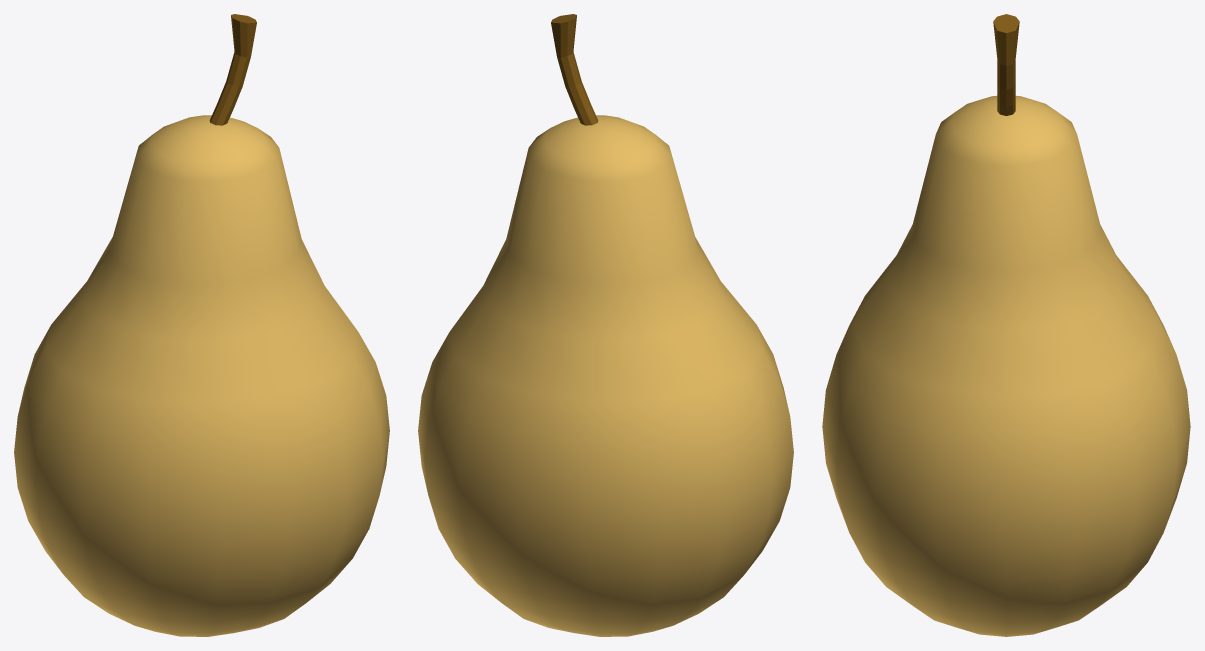
File: scene_birne.gltf
3 views of the same model, side by side, from view 1: azimuth 30°, elevation 25°; view 2: azimuth 150°, elevation 25°; view 3: azimuth 270°, elevation 25° (orthographic). The views are drawn at different scales.
Parts seen in each view (by area): view 1: Sphere.001, Cylinder.002; view 2: Sphere.001, Cylinder.002; view 3: Sphere.001, Cylinder.002.
Part boxes in pixels (<box>): Sphere.001: <box>14,115,389,636</box>; Cylinder.002: <box>209,14,256,125</box>; Sphere.001: <box>418,115,793,636</box>; Cylinder.002: <box>551,14,598,125</box>; Sphere.001: <box>822,95,1190,636</box>; Cylinder.002: <box>993,14,1019,115</box>.
Size of the model in its own units: 2.16 by 3.69 by 2.
